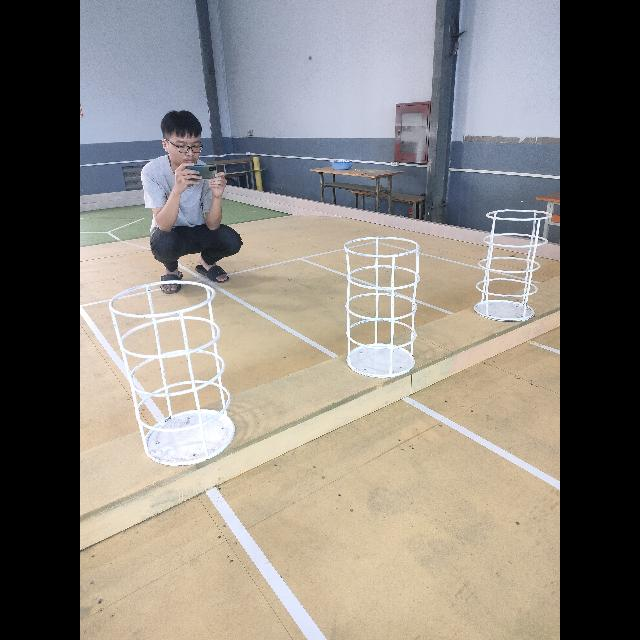S: (109, 282, 237, 464), (342, 237, 421, 381), (472, 208, 553, 324)
